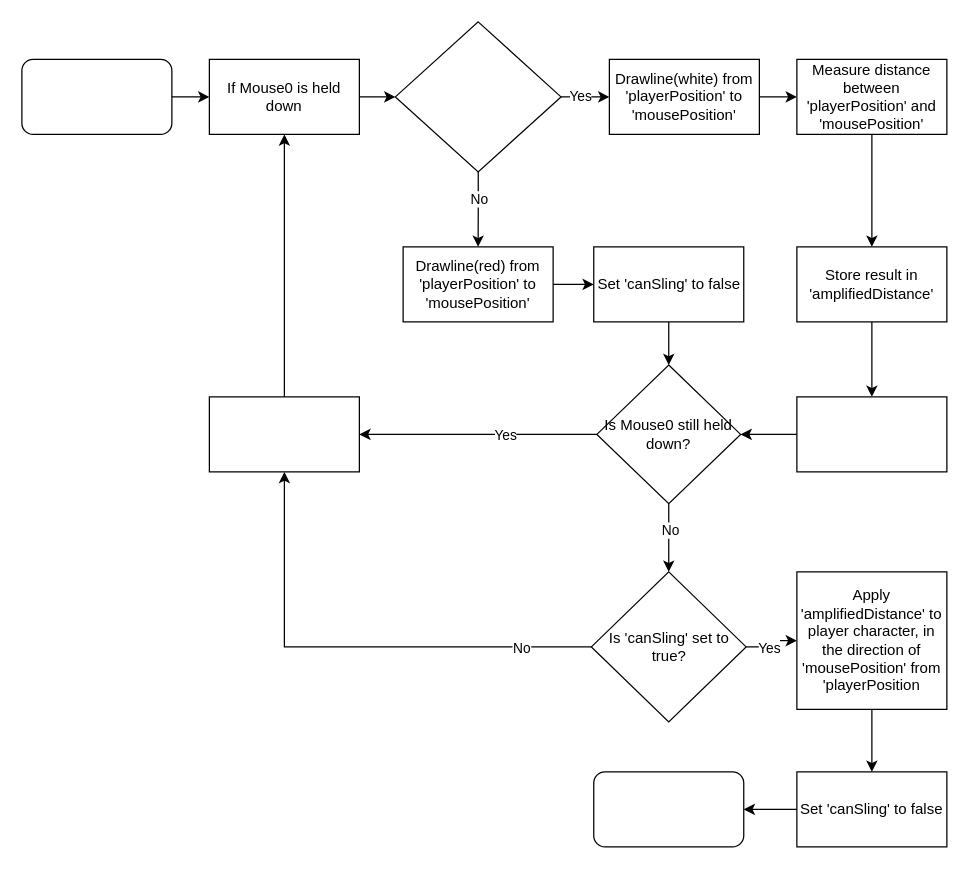
The diagram is 969 pixels wide and 869 high, and some of its shapes have lost their labels. Each missing label, with the centre of its shape:
"End" goes at (668,809).
"Is 'mousePosition' within 'playerRadius'?" goes at (477,96).
"Loop back and check again" goes at (283,434).
"Set 'canSling' to true" goes at (871,434).
"Start" goes at (96,96).
